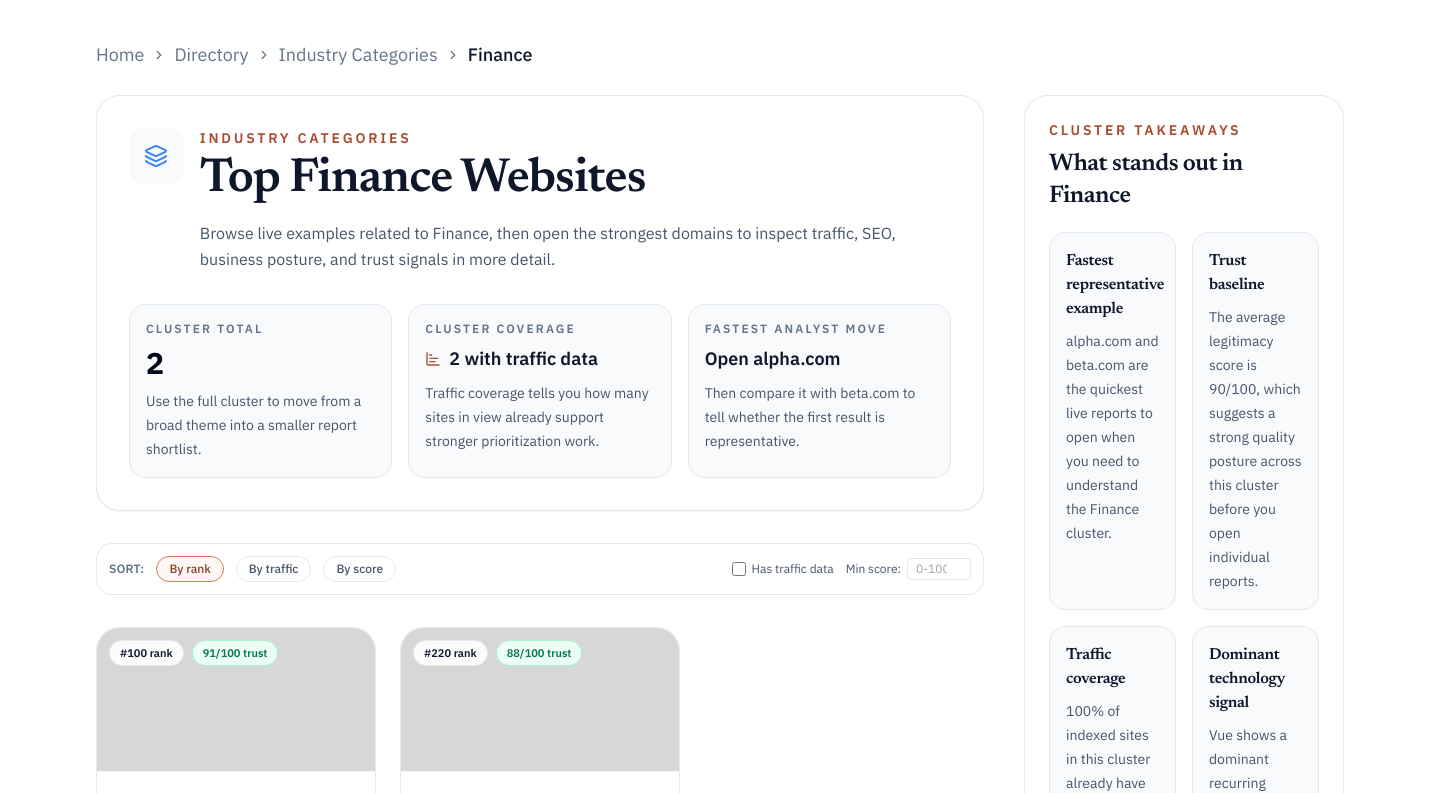
Test: DirectoryContent › updates sidebar summaries and related links after filtering
The image size is (1440, 793).
Check: the text "alpha.com and beta.com are the quickest live reports" is shown, box [1066,332,1158,542]
Click the button "By traffic": (274, 569) [236,556,312,582]
(page scrolled)
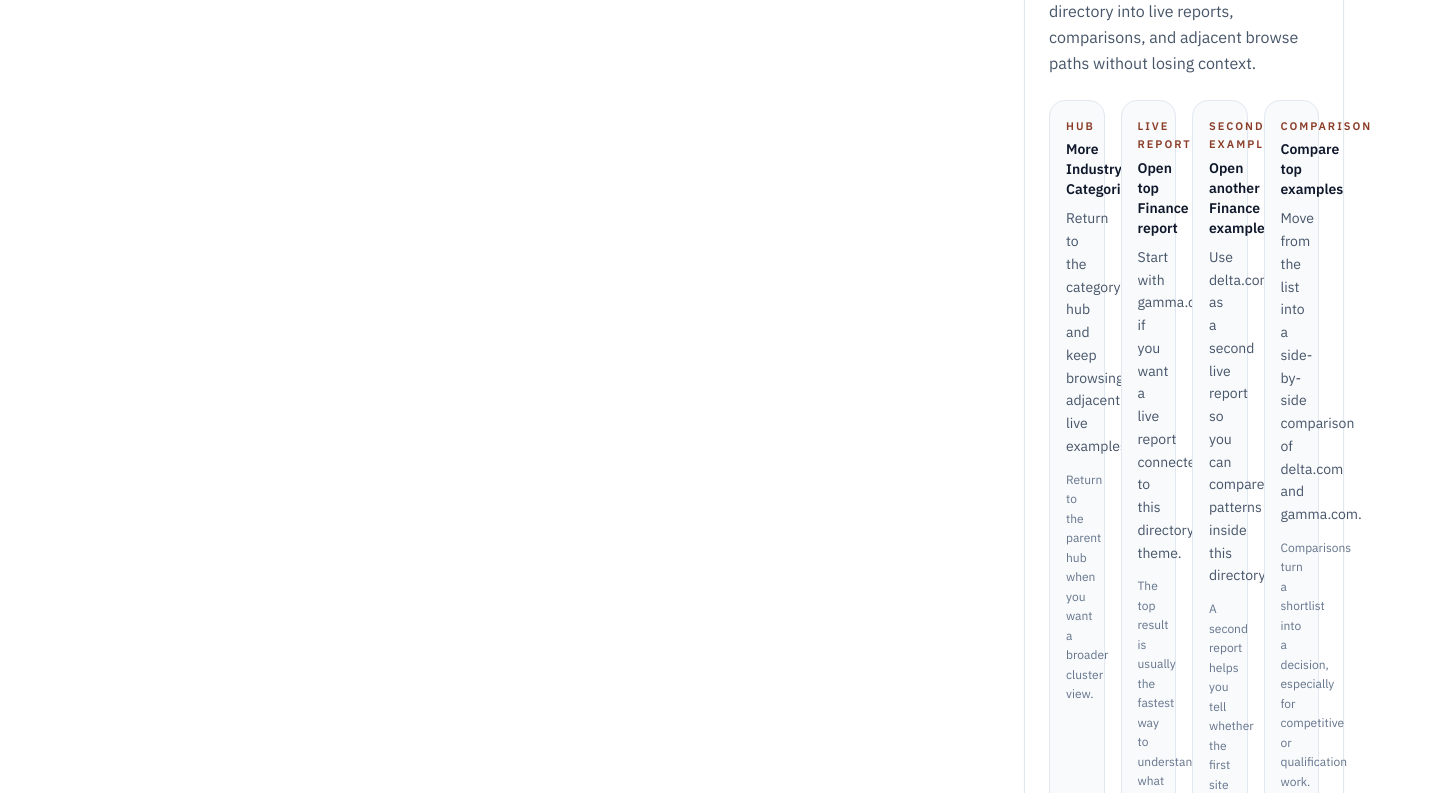
Check: the text "Start with gamma.com" is shown, box [1138,248,1215,562]
